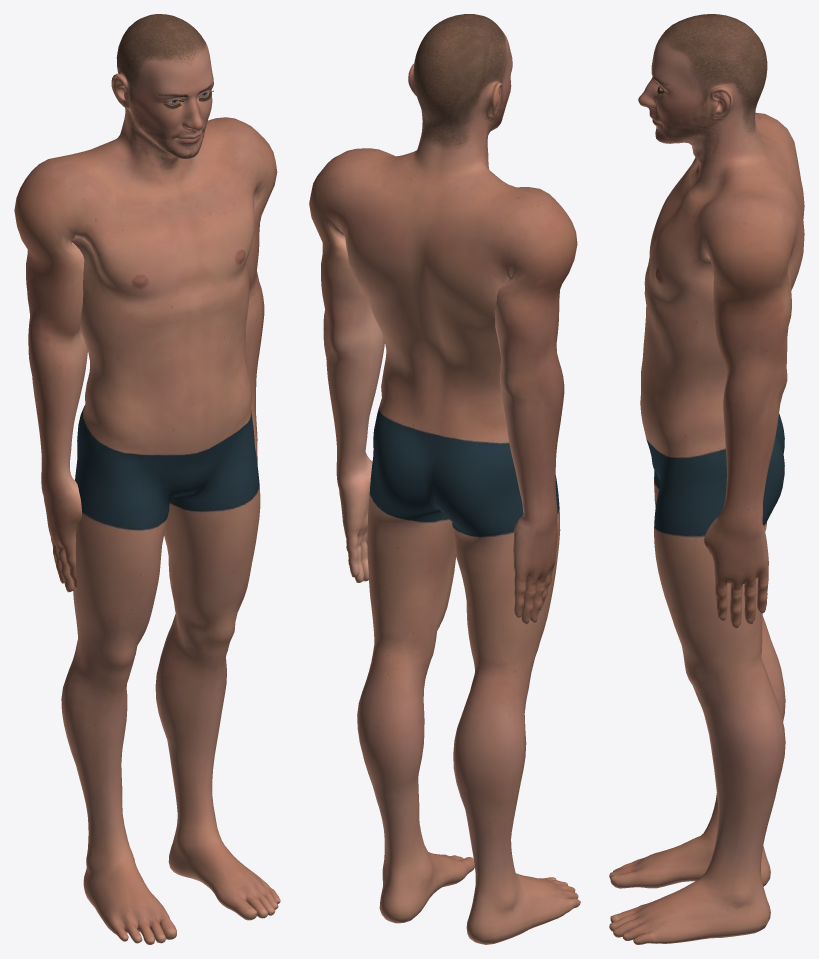
Rendered from neutral_standing.glb.
3 views of the same model, side by side, from view 1: azimuth 30°, elevation 25°; view 2: azimuth 150°, elevation 25°; view 3: azimuth 270°, elevation 25° (orthographic). The views are drawn at different scales.
Parts seen in each view (by area): view 1: Body; view 2: Body; view 3: Body.
Part boxes in pixels (x1,y1,x2,y2): Body: [14, 14, 280, 944]; Body: [309, 14, 580, 944]; Body: [609, 14, 804, 944].
Bounding box in the file's own units: 0.5292 × 1.79 × 0.3552.
Materials: 2 (2 with a texture image).
